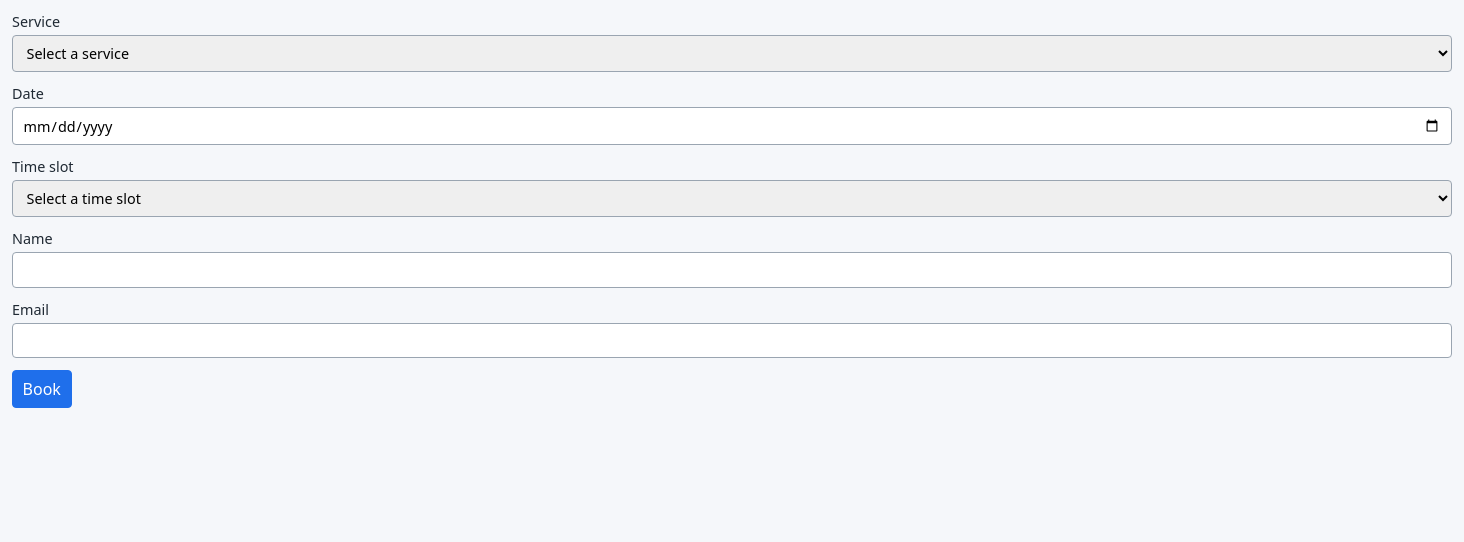
Test case: BookingForm › shows field errors returned by the server
Select "Haircut (30 min, $25.00)" in the dropdown labelled "Service" at [732, 54], box [12,35,1452,72]
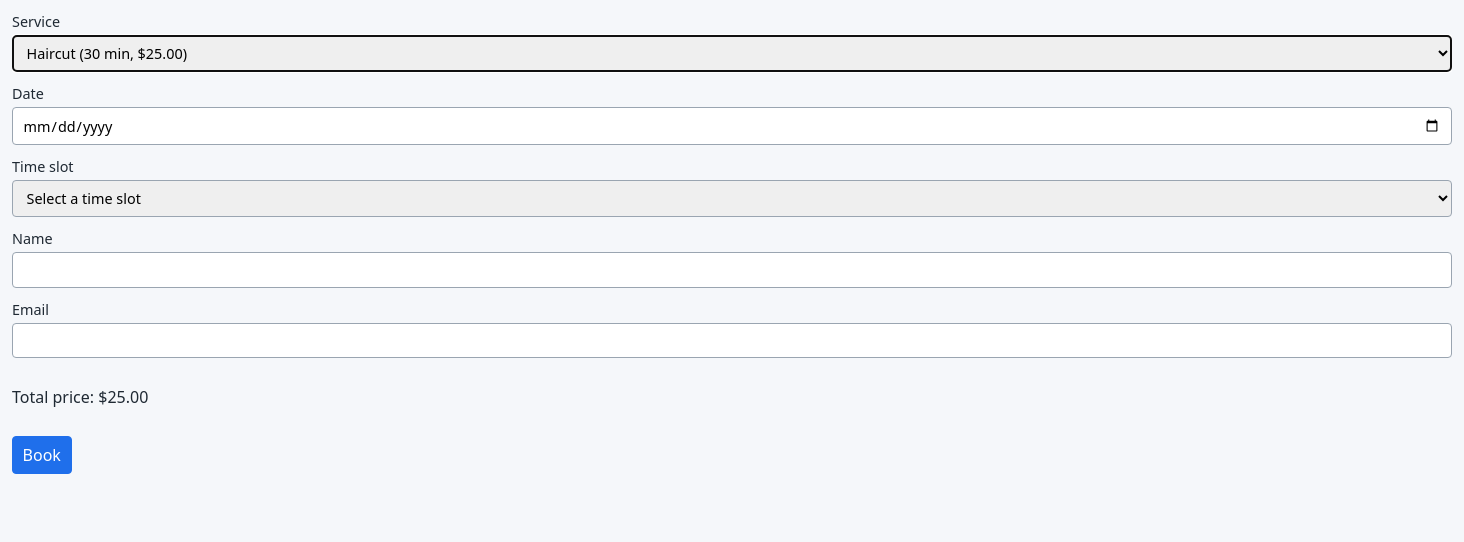
Type "2030-01-15" into the date field labelled "Date".
click(732, 126); type("2030-01-15")  # box [12,107,1452,145]
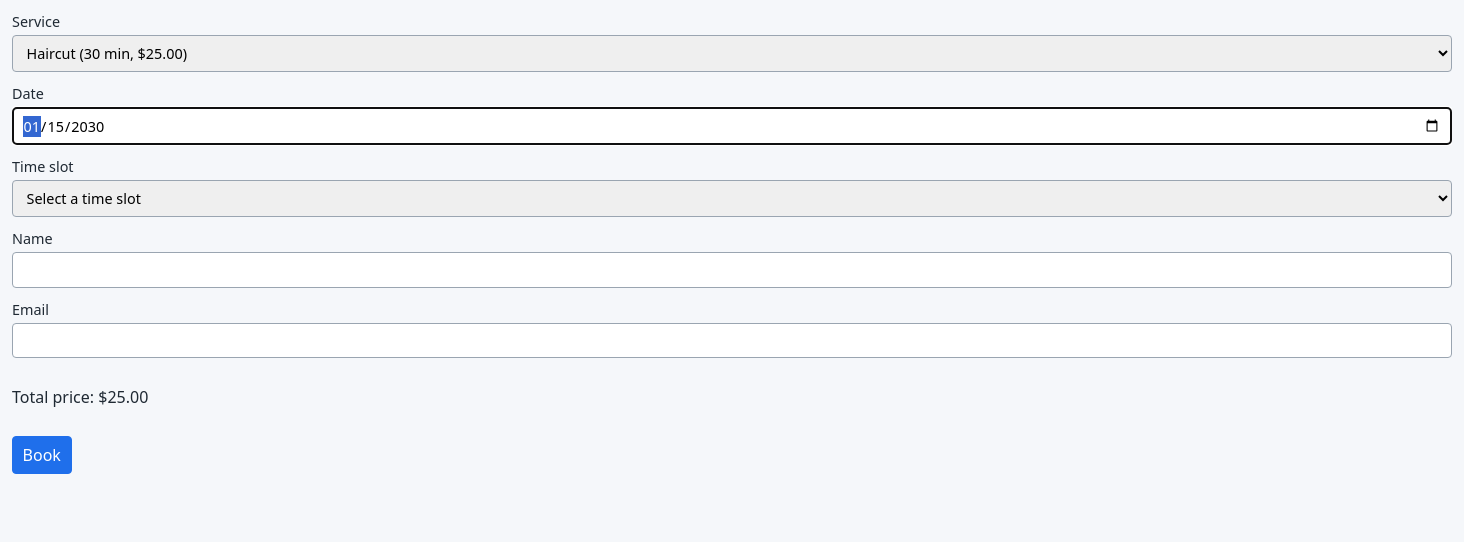
Select "10:00" in the dropdown labelled "Time slot" at [732, 198], box [12,180,1452,217]
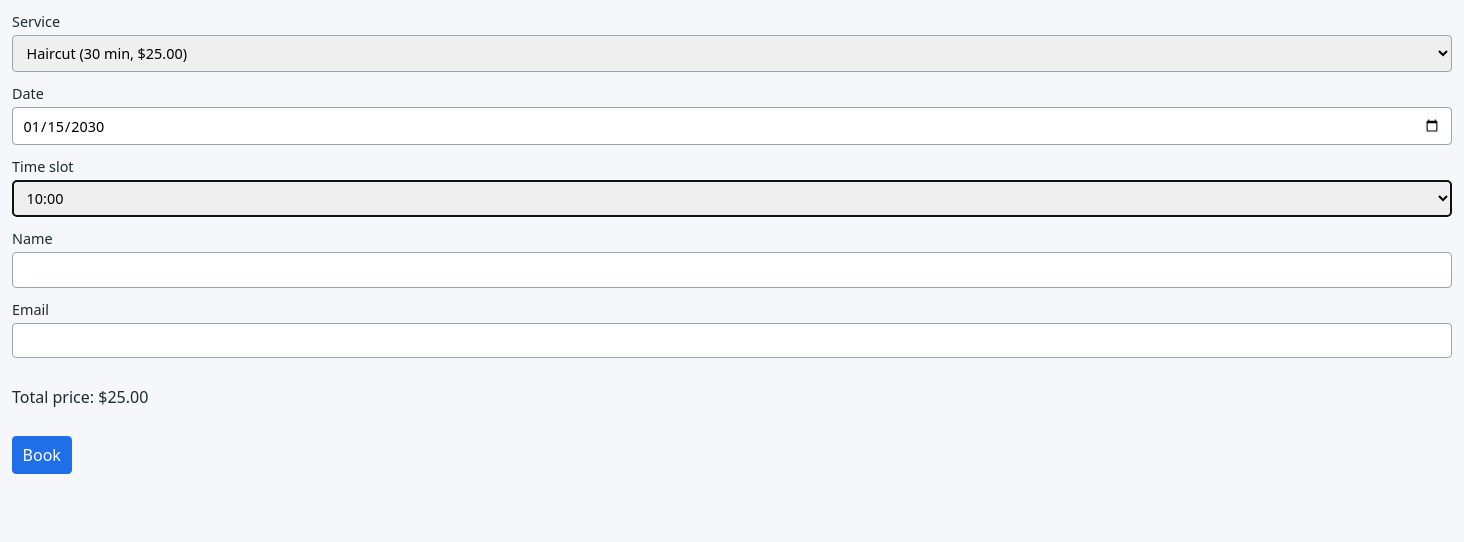
Type "Ada Lovelace" into the field labelled "Name".
click(732, 270); type("Ada Lovelace")  # box [12,252,1452,288]
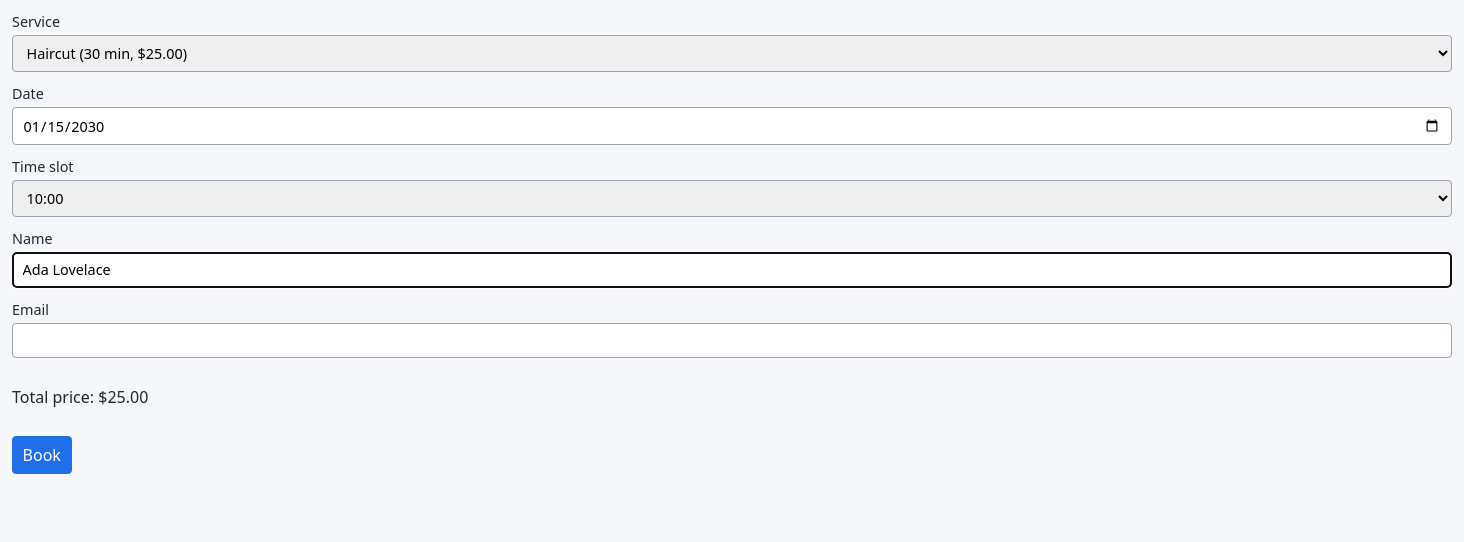
Type "ada@example.com" into the field labelled "Email".
click(732, 340); type("ada@example.com")  # box [12,322,1452,358]
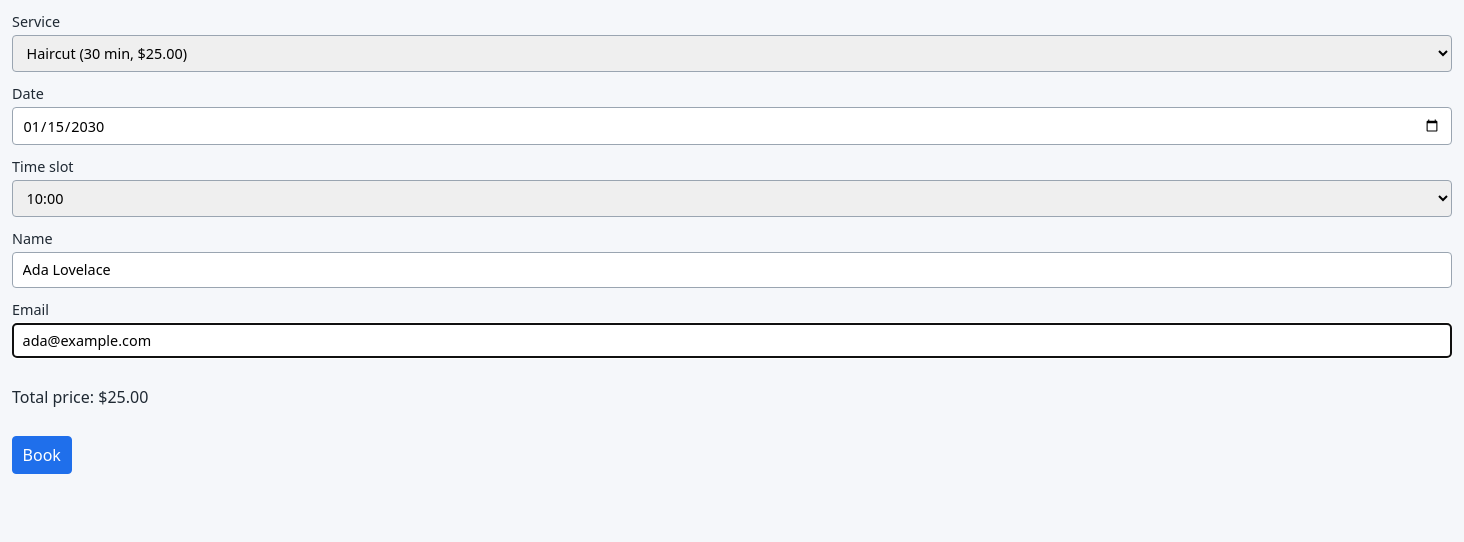
Click the button "Book".
click(42, 455)  # box [12,436,72,474]
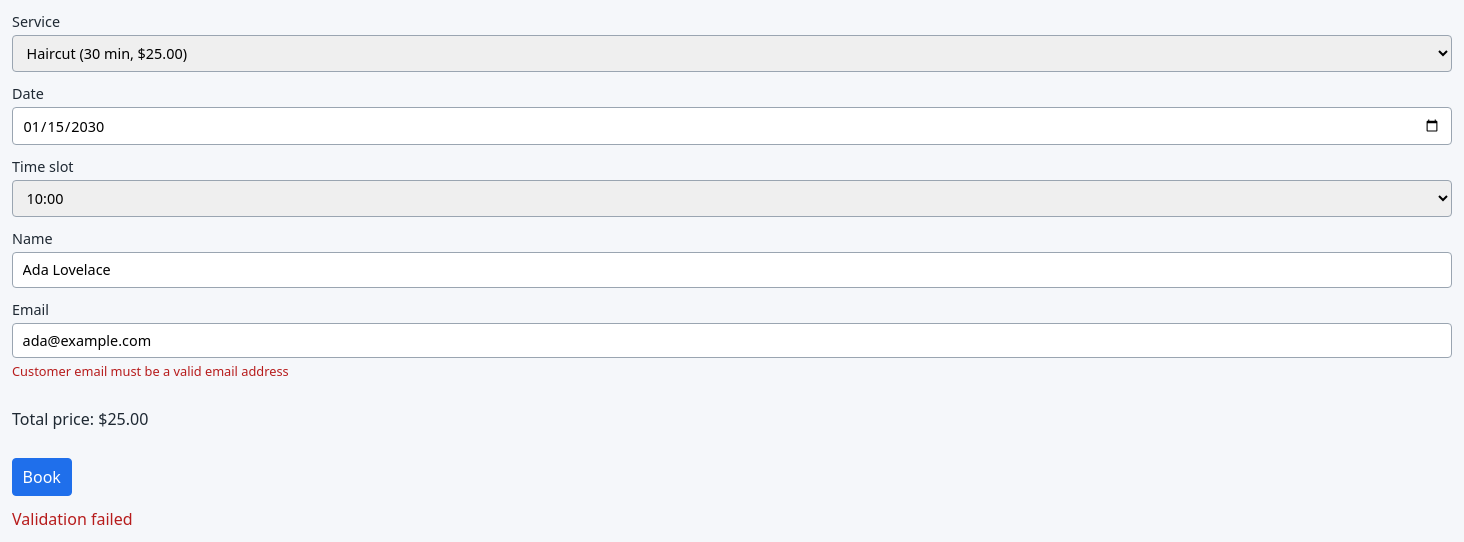
Check: the text "Customer email must be a valid email address" is shown, box [12,362,289,380]
